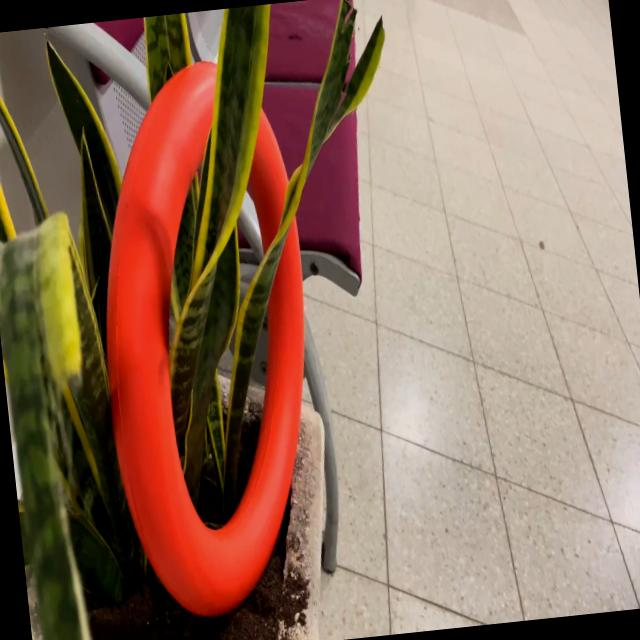note: (73, 50, 340, 628)
